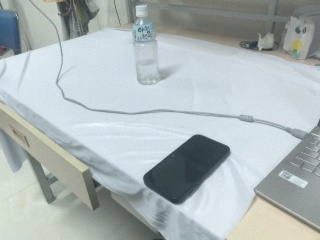bottle: (131, 3, 164, 86)
phone: (140, 133, 231, 205)
